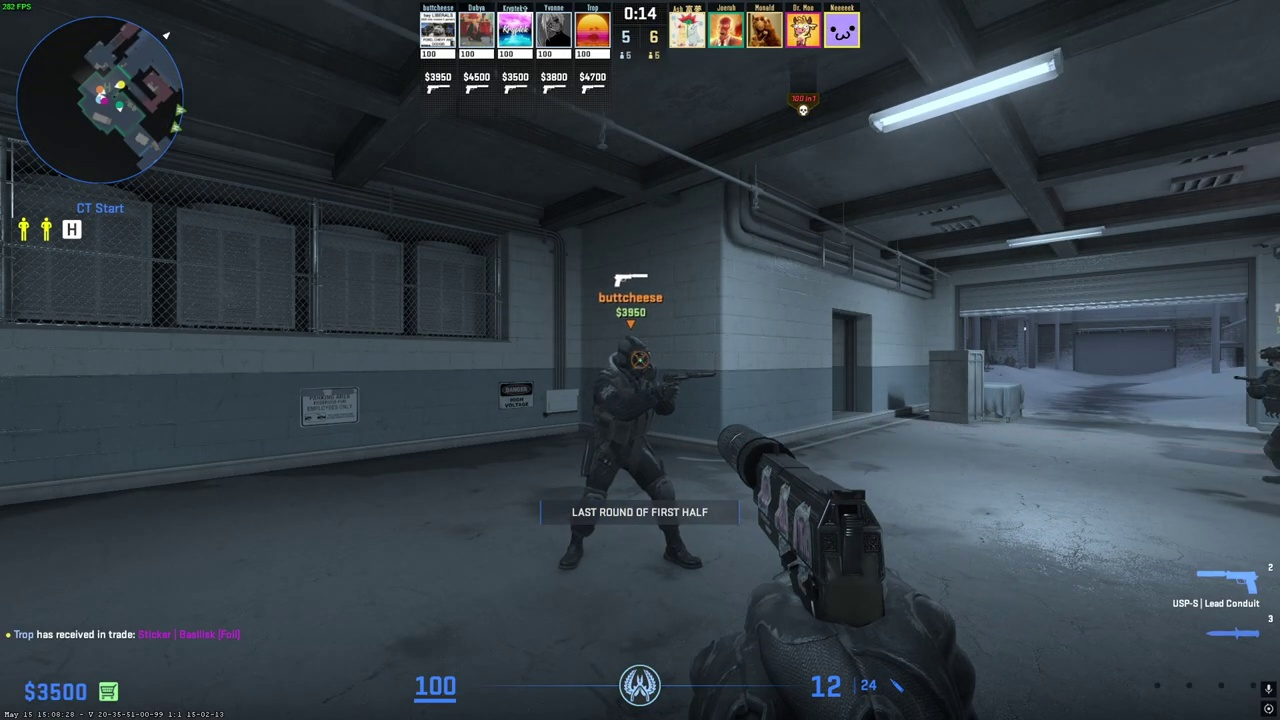CT: (565, 336, 691, 574), (1252, 341, 1280, 488)
